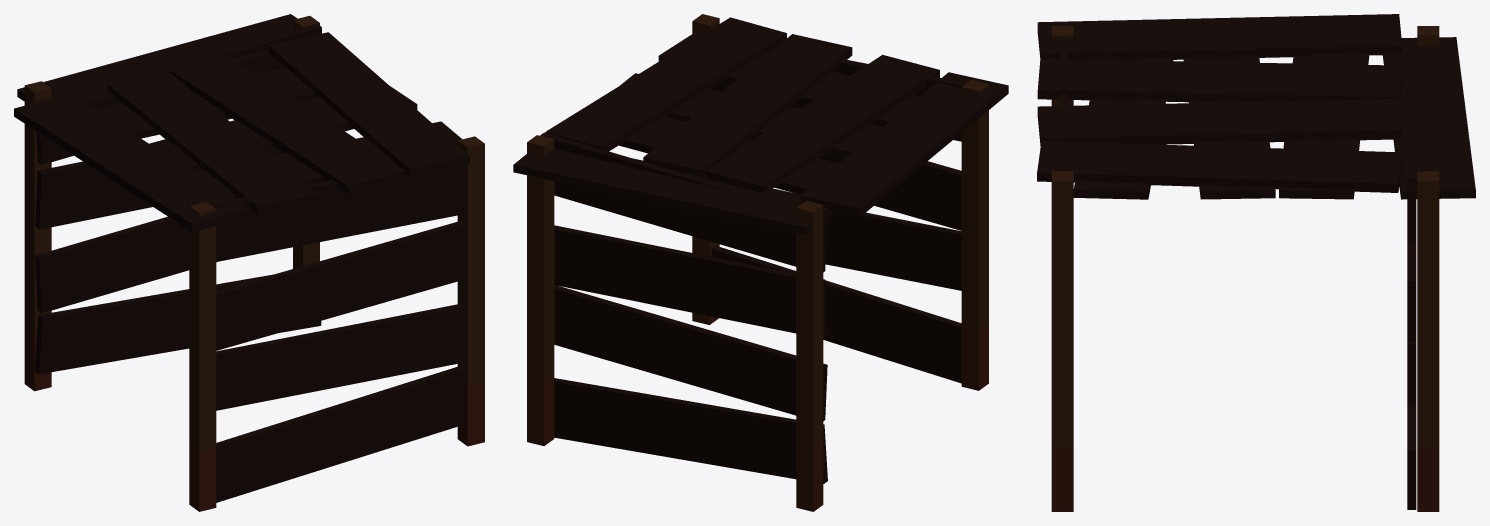
The model's file is Stand5.fbx.
3 views of the same model, side by side, from view 1: azimuth 30°, elevation 25°; view 2: azimuth 150°, elevation 25°; view 3: azimuth 270°, elevation 25° (orthographic). The views are drawn at different scales.
Parts seen in each view (by area): view 1: mergedBlocks; view 2: mergedBlocks; view 3: mergedBlocks.
Part boxes in pixels (x1,y1,x2,y2): mergedBlocks: [14, 14, 484, 511]; mergedBlocks: [513, 14, 1008, 511]; mergedBlocks: [1037, 14, 1475, 511].
Size of the model in its own units: 11 by 10 by 12.
